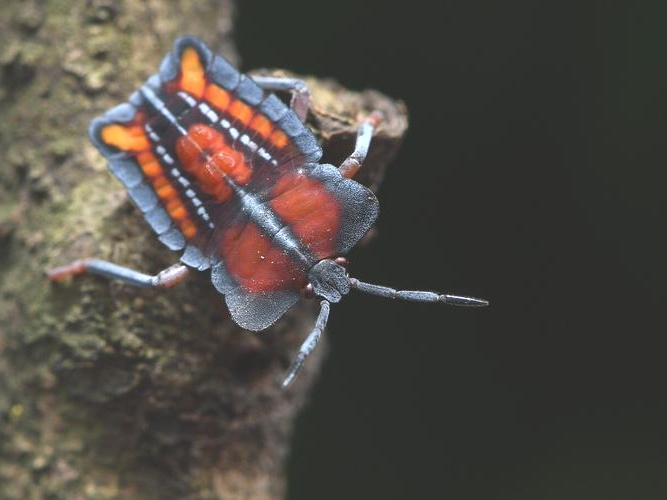Stink_Bug: (62, 85, 387, 288)
